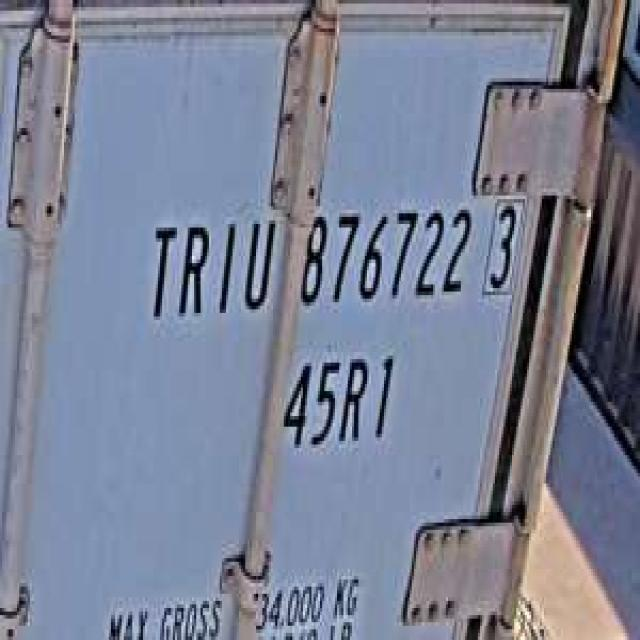dv: (480, 188, 525, 302)
owner: (141, 199, 277, 331)
serial: (293, 188, 472, 320)
size: (277, 341, 403, 459)
